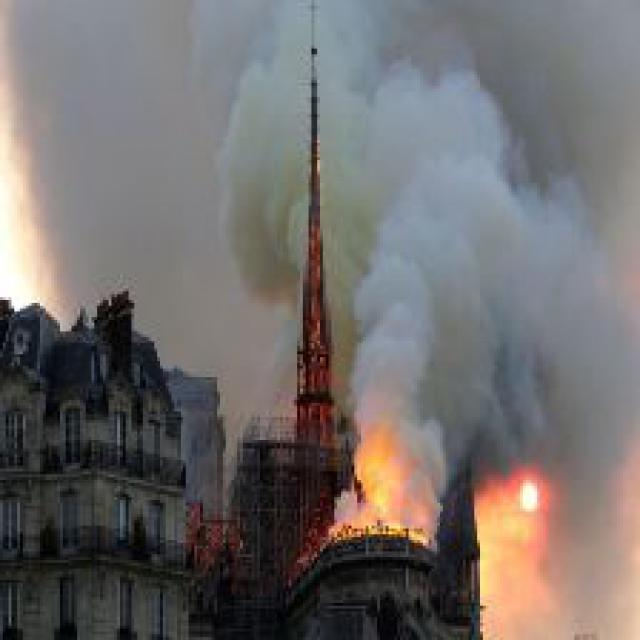fire: (468, 454, 566, 623), (343, 426, 434, 537)
